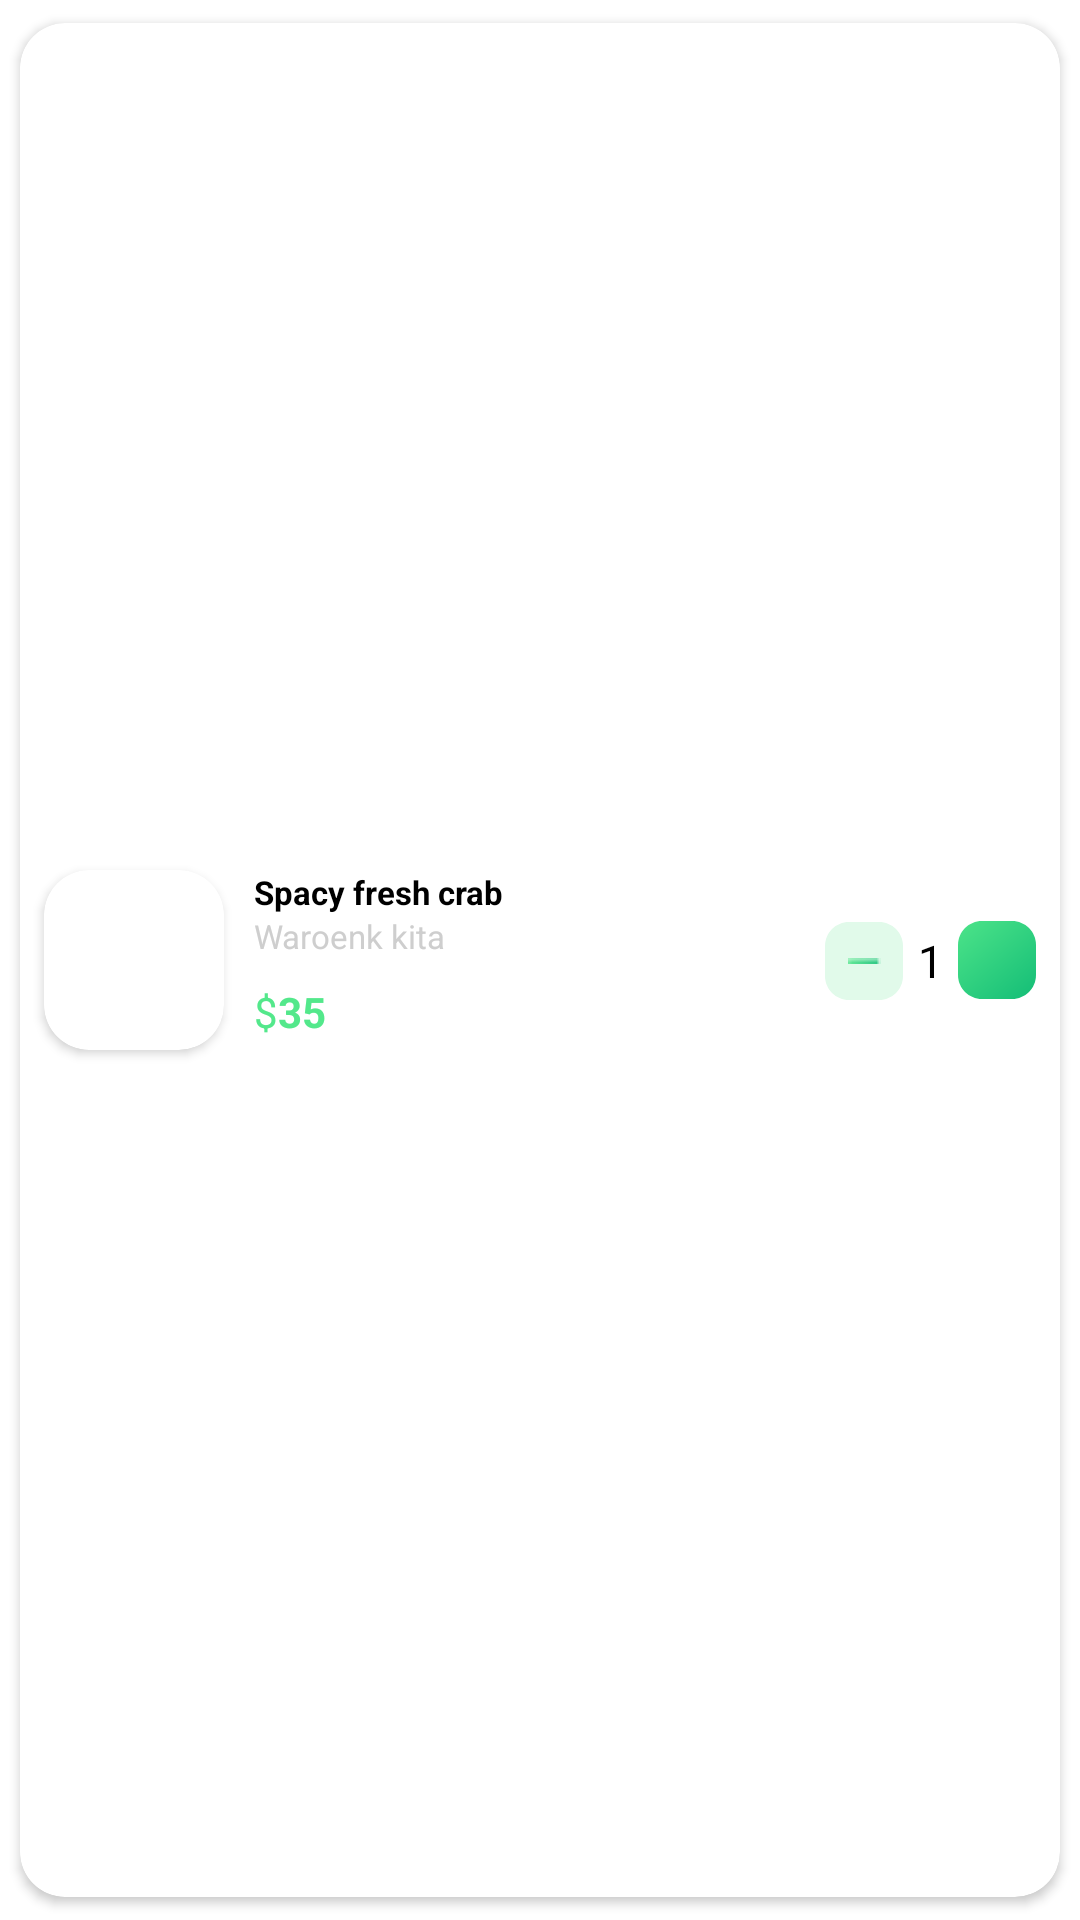

Icons on this 1080*1920 Android screen, each with the point to tap as (x,y):
minus: (864,961)
